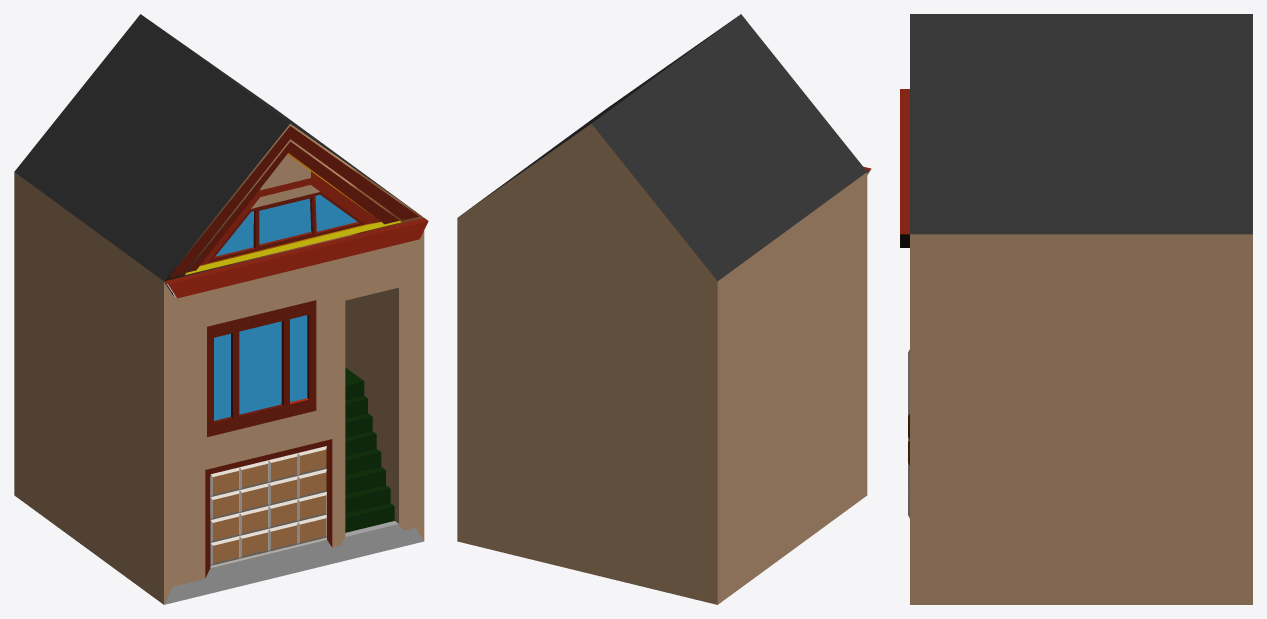
File: sf_house3.glb
3 renders of one model, left to right at view 1: azimuth 30°, elevation 25°; view 2: azimuth 150°, elevation 25°; view 3: azimuth 270°, elevation 25°, orthographic. The views are drawn at different scales.
Parts seen in each view (by area): view 1: Cube; view 2: Cube; view 3: Cube.
Boxes of the visible parts, x1,y1,x2,y2 form: Cube: [14, 14, 428, 604]; Cube: [457, 14, 871, 604]; Cube: [900, 14, 1252, 604].
Size of the model in its own units: 16.02 by 26.5 by 16.42.
1 material, 1 textured.
